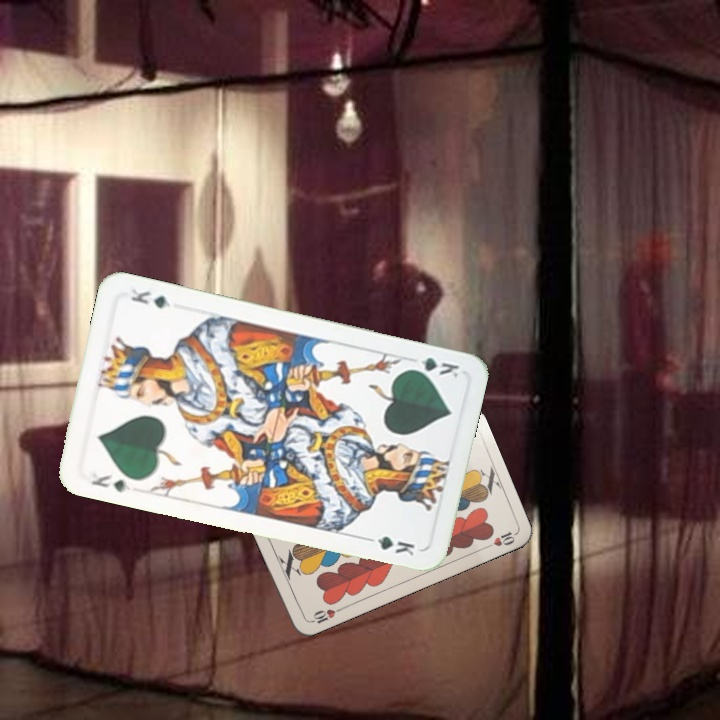GK: (404, 353, 462, 380), (87, 469, 133, 495)
H10: (305, 604, 344, 626)
